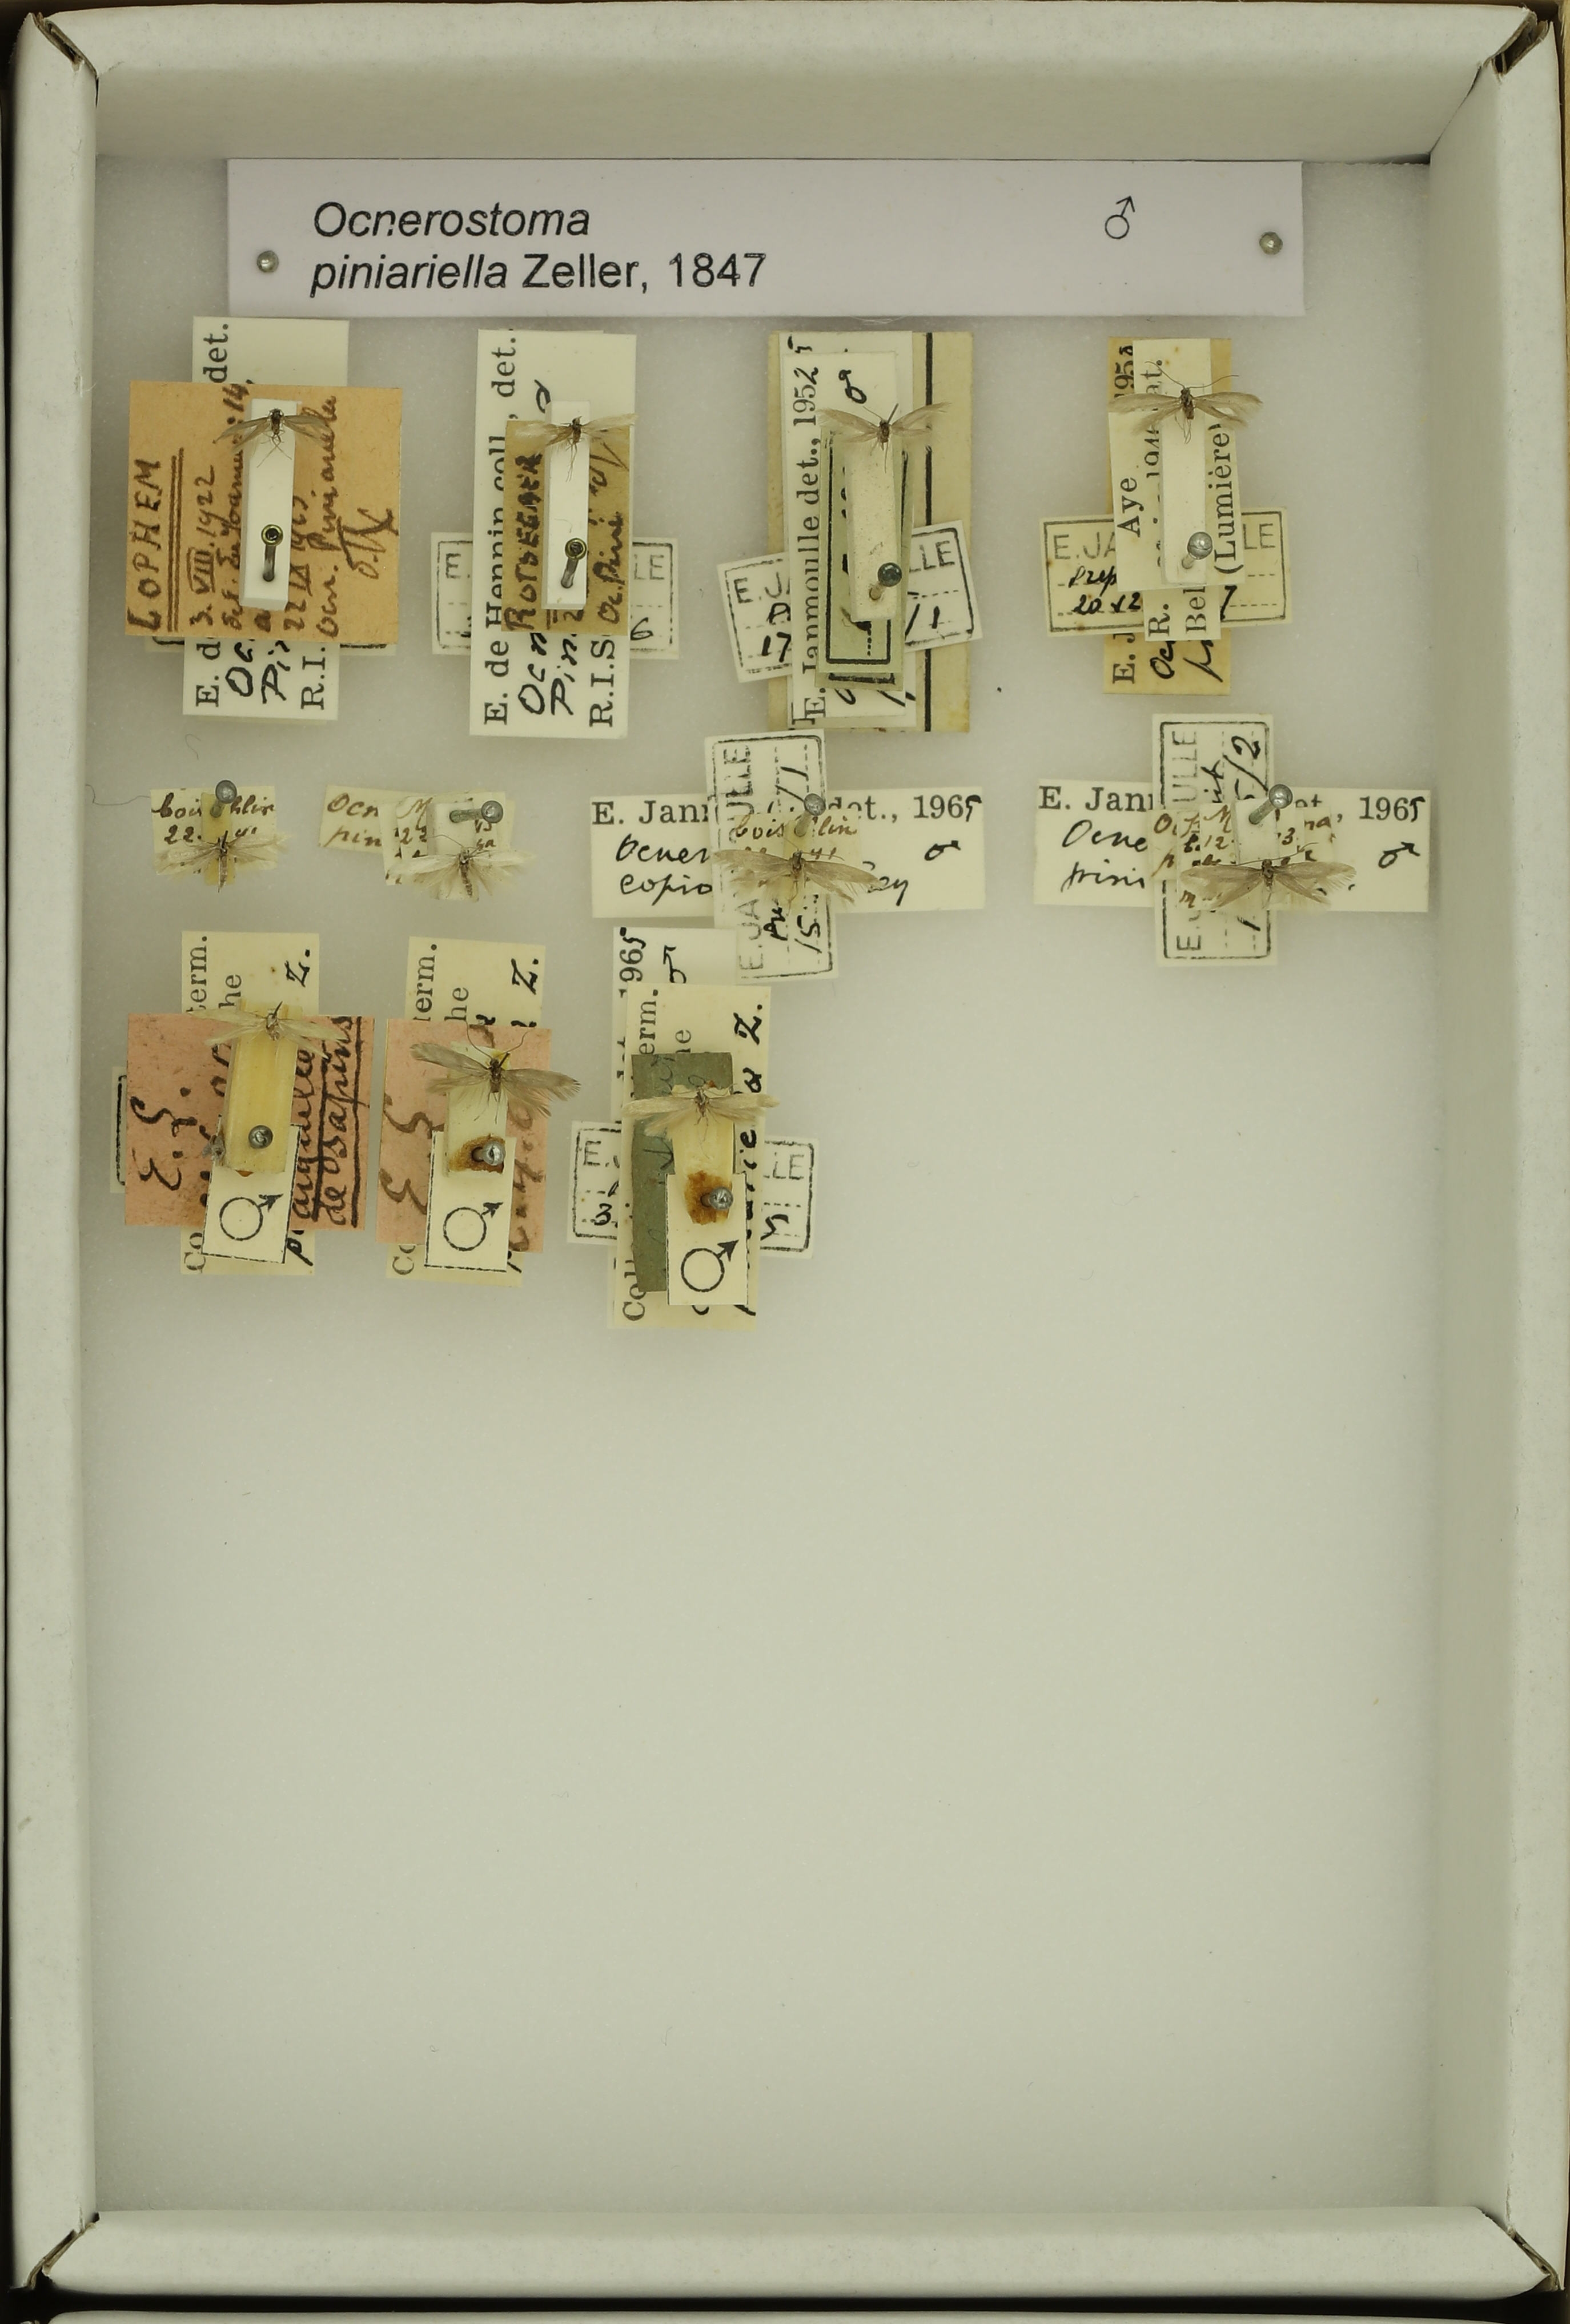insect: (407, 1033, 580, 1124), (1106, 359, 1269, 447), (1177, 841, 1354, 909), (710, 848, 878, 911), (813, 398, 953, 471), (193, 1002, 345, 1056), (619, 1088, 776, 1138), (508, 408, 641, 464), (209, 406, 342, 461), (158, 832, 284, 881), (403, 851, 524, 902)
